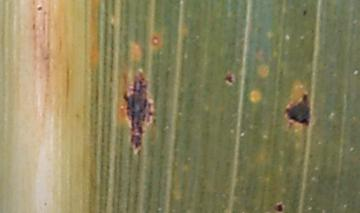tarspot: (122, 72, 154, 150), (286, 94, 311, 128), (224, 73, 234, 85), (35, 3, 43, 13), (276, 203, 283, 213), (301, 8, 308, 18)
